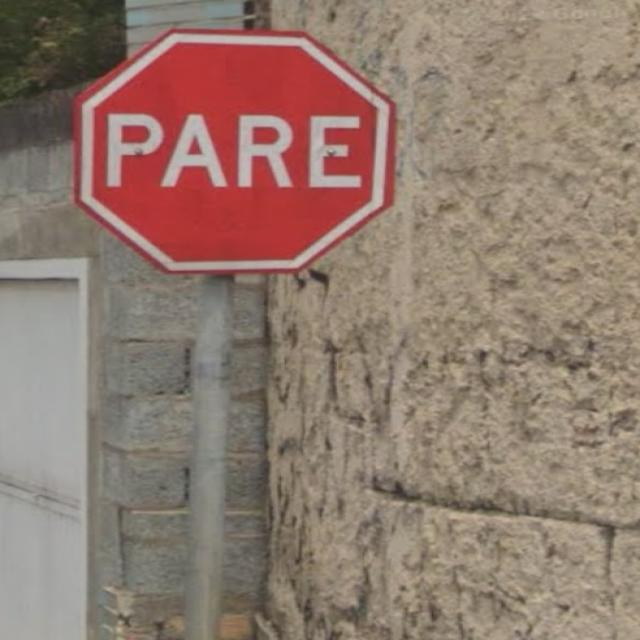stop: (48, 16, 435, 299)
